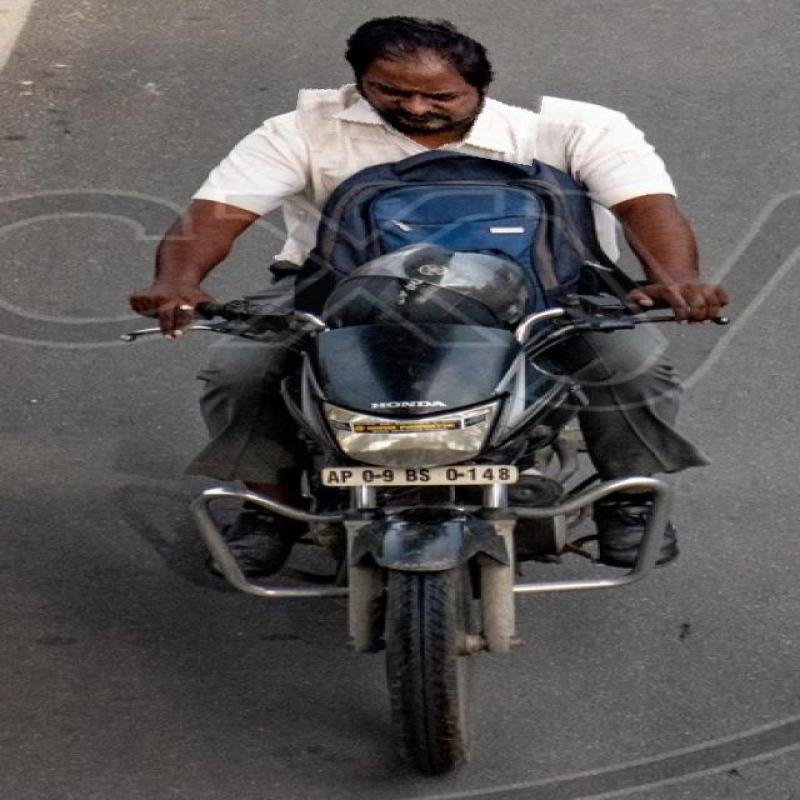nohelmet: (297, 0, 550, 156)
